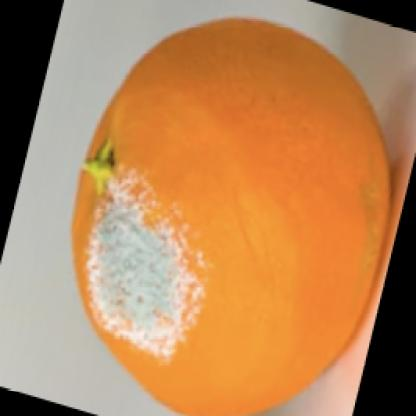rotten: (73, 16, 391, 416)
